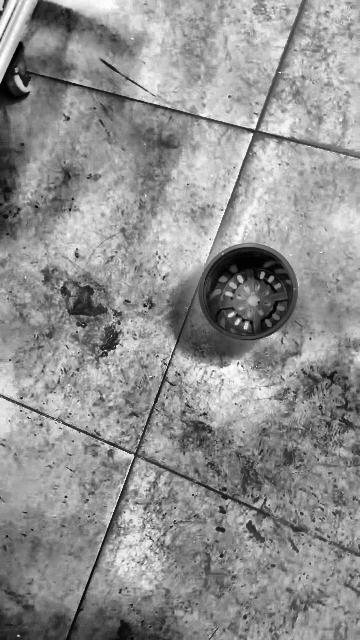pot: (198, 244, 298, 341)
